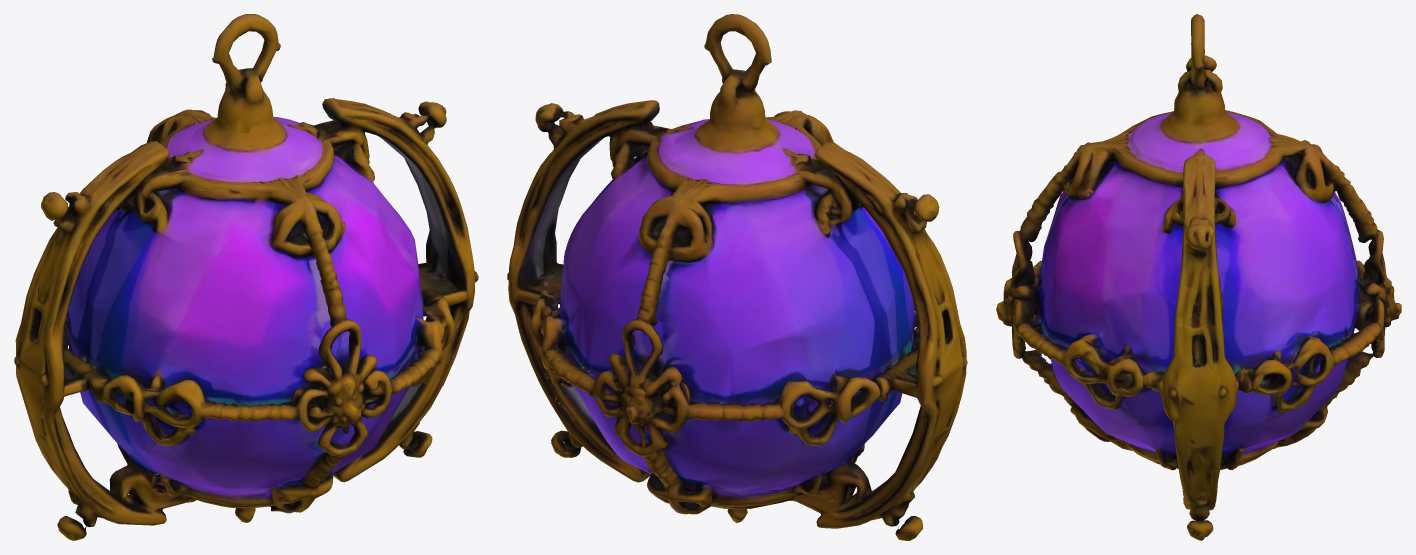
File: arcane-orb.glb
3 renders of one model, left to right at view 1: azimuth 30°, elevation 25°; view 2: azimuth 150°, elevation 25°; view 3: azimuth 270°, elevation 25°, orthographic. The views are drawn at different scales.
Bounding box in the file's own units: 1.8 × 2 × 1.57.
1 material, 1 textured.
